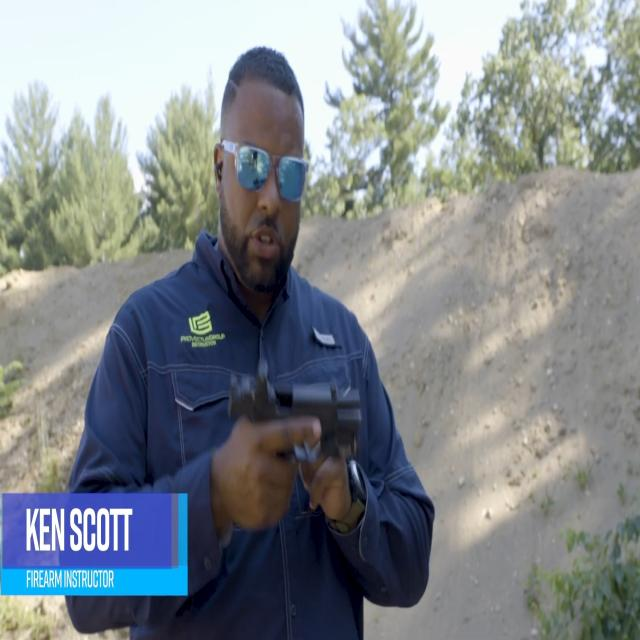Gun_Holder: (204, 358, 363, 500)
Person: (51, 38, 441, 640)
